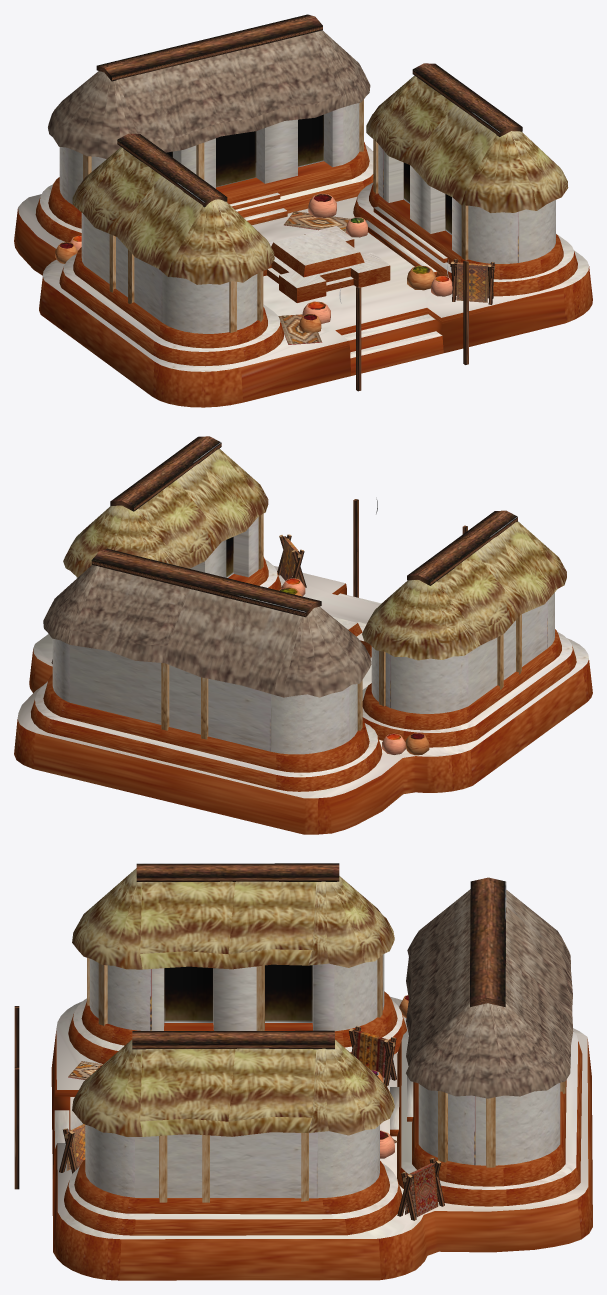
File: cc_menor_1.dae
3 renders of one model, top to bottom at view 1: azimuth 30°, elevation 25°; view 2: azimuth 150°, elevation 25°; view 3: azimuth 270°, elevation 25°, orthographic. The views are drawn at different scales.
Parts seen in each view (by area): view 1: cc_nm_1; view 2: cc_nm_1; view 3: cc_nm_1.
Boxes of the visible parts, x1=… form: cc_nm_1: x1=14, y1=14, x2=592, y2=407; cc_nm_1: x1=14, y1=436, x2=592, y2=834; cc_nm_1: x1=14, y1=863, x2=592, y2=1280.
Size of the model in its own units: 25.13 by 24.8 by 10.37.
Materials: 1 (1 with a texture image).
